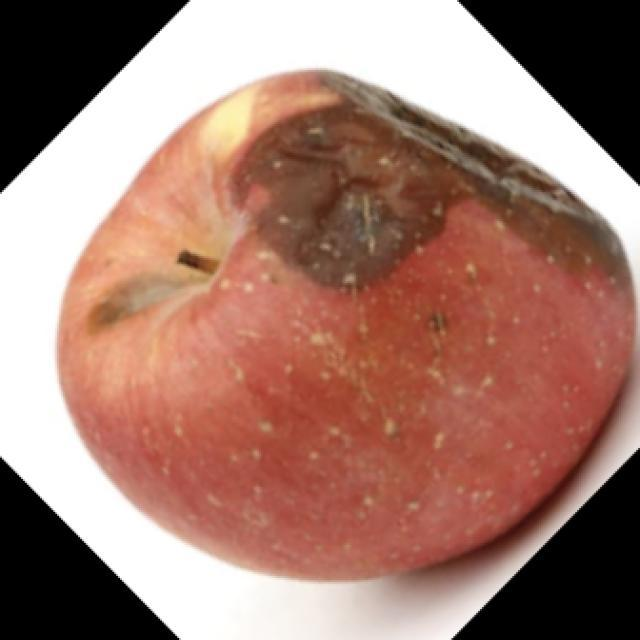Rotten: (70, 85, 640, 582)
